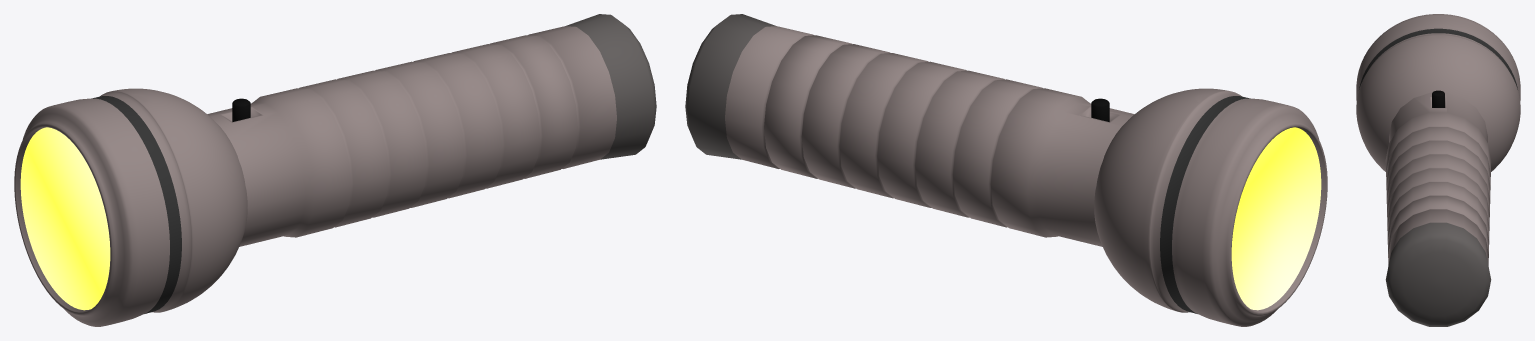
The model's file is FlashLight.fbx.
3 renders of one model, left to right at view 1: azimuth 30°, elevation 25°; view 2: azimuth 150°, elevation 25°; view 3: azimuth 270°, elevation 25°, orthographic. The views are drawn at different scales.
Visible parts, largest first — view 1: Cylinder, Sphere; view 2: Cylinder, Sphere; view 3: Cylinder, Sphere, Cylinder.001.
Boxes of the visible parts, x1,y1,x2,y2 form: Cylinder: (207, 14, 656, 246); Sphere: (14, 88, 247, 326); Cylinder: (685, 14, 1134, 246); Sphere: (1094, 88, 1327, 326); Cylinder: (1385, 92, 1491, 326); Sphere: (1356, 14, 1520, 171); Cylinder.001: (1432, 90, 1444, 107).
Size of the model in its own units: 909 by 312 by 312.
